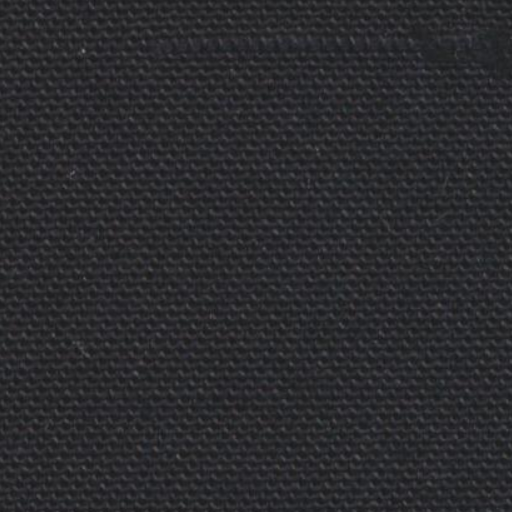DaiSha: (42, 22, 453, 70)
